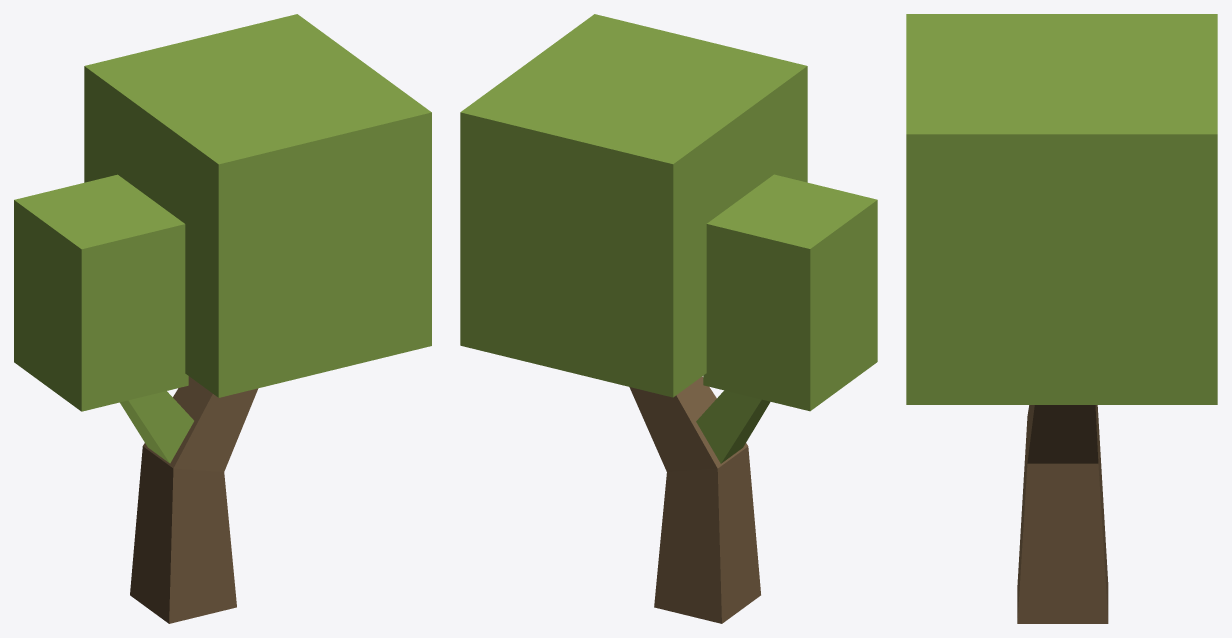
The model's file is Tree_07.fbx.
3 views of the same model, side by side, from view 1: azimuth 30°, elevation 25°; view 2: azimuth 150°, elevation 25°; view 3: azimuth 270°, elevation 25° (orthographic). The views are drawn at different scales.
Parts seen in each view (by area): view 1: Tree_07; view 2: Tree_07; view 3: Tree_07.
Part boxes in pixels (box(x1,y1,x2,y2)): Tree_07: box(14, 14, 431, 623); Tree_07: box(460, 14, 877, 623); Tree_07: box(906, 14, 1217, 623).
Bounding box in the file's own units: 2.03 × 3.03 × 1.49.
